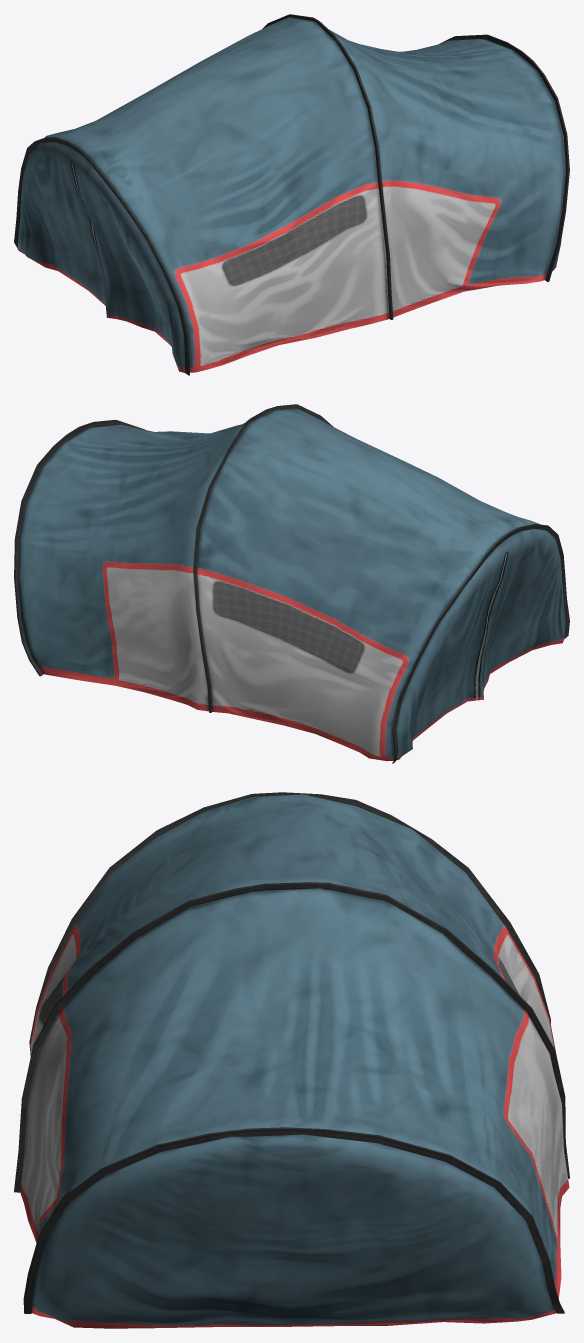
The model's file is MB_Tent_01.fbx.
The picture shows the model from 3 angles, top to bottom: view 1: azimuth 30°, elevation 25°; view 2: azimuth 150°, elevation 25°; view 3: azimuth 270°, elevation 25°; orthographic projection. The views are drawn at different scales.
Parts seen in each view (by area): view 1: MB_Tent_01_LOD0; view 2: MB_Tent_01_LOD0; view 3: MB_Tent_01_LOD0.
Boxes of the visible parts, x1,y1,x2,y2 form: MB_Tent_01_LOD0: [14, 14, 569, 375]; MB_Tent_01_LOD0: [14, 404, 569, 763]; MB_Tent_01_LOD0: [14, 792, 569, 1328].
Size of what is drawn, in the model's own units: 396 by 199 by 284.
